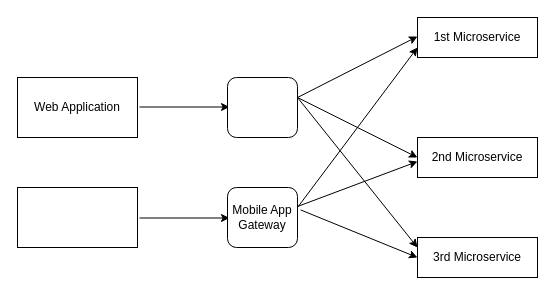
Some shapes in this 555 by 295 pixel diagram are drawn without their labels. Each missing label, with the box of its shape:
Mobile Application: (16, 186, 138, 248)
Web App Gateway: (226, 76, 298, 138)
